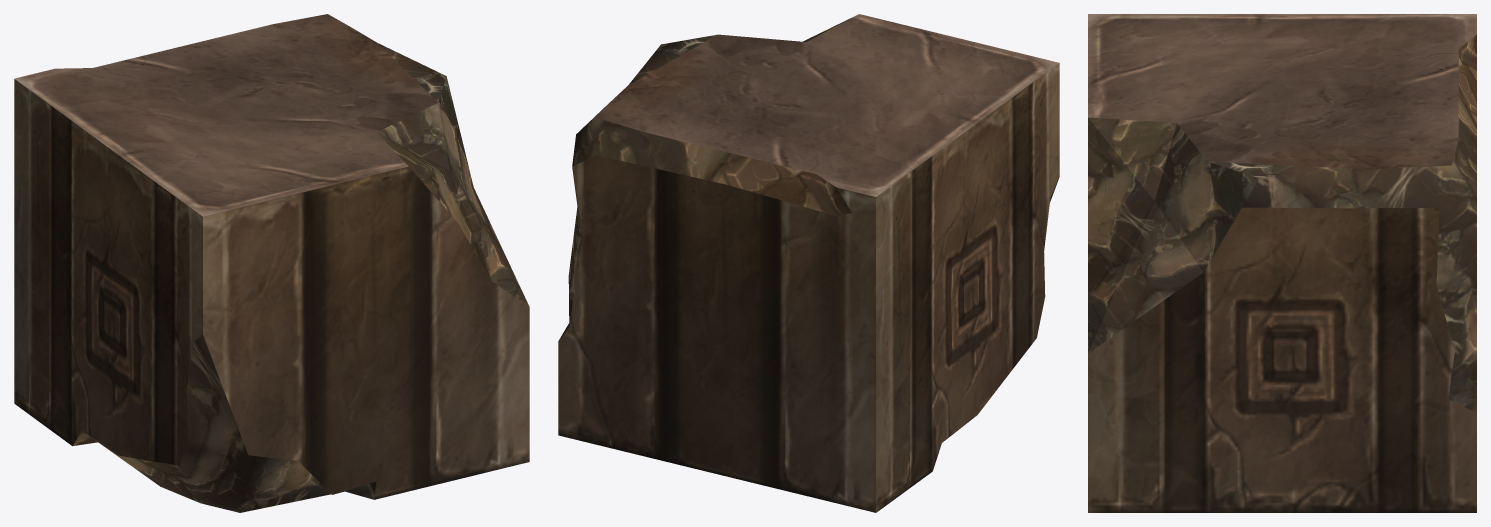
Rendered from D_shizhu005.fbx.
3 renders of one model, left to right at view 1: azimuth 30°, elevation 25°; view 2: azimuth 150°, elevation 25°; view 3: azimuth 270°, elevation 25°, orthographic. The views are drawn at different scales.
Visible parts, largest first — view 1: D_shizhu005; view 2: D_shizhu005; view 3: D_shizhu005.
Part boxes in pixels (left/top/right/bottom): D_shizhu005: left=14, top=14, right=529, bottom=512; D_shizhu005: left=558, top=14, right=1059, bottom=512; D_shizhu005: left=1088, top=14, right=1476, bottom=512.
Bounding box in the file's own units: 93.34 × 88.66 × 93.34.
